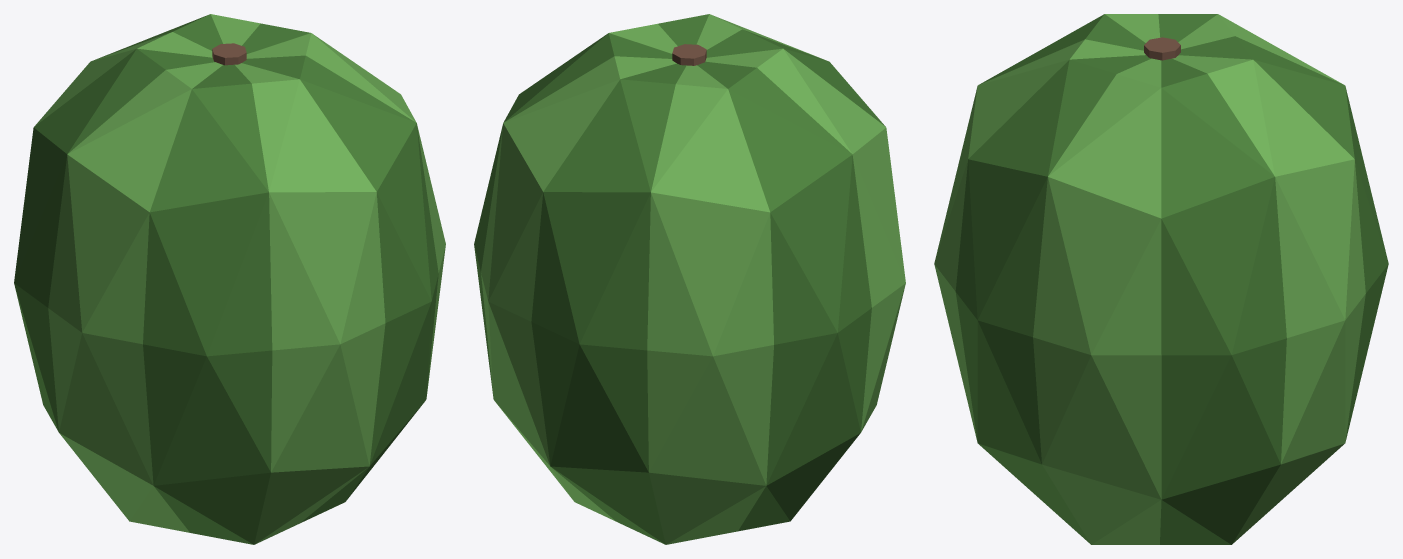
The model's file is Watermelon_01.fbx.
3 views of the same model, side by side, from view 1: azimuth 30°, elevation 25°; view 2: azimuth 150°, elevation 25°; view 3: azimuth 270°, elevation 25° (orthographic). The views are drawn at different scales.
Visible parts, largest first — view 1: Watermelon_01; view 2: Watermelon_01; view 3: Watermelon_01.
Boxes of the visible parts, <box> form: Watermelon_01: <box>14,14,445,544</box>; Watermelon_01: <box>474,14,905,544</box>; Watermelon_01: <box>934,14,1388,544</box>.
Bounding box in the file's own units: 22.14 × 27.33 × 23.28.
